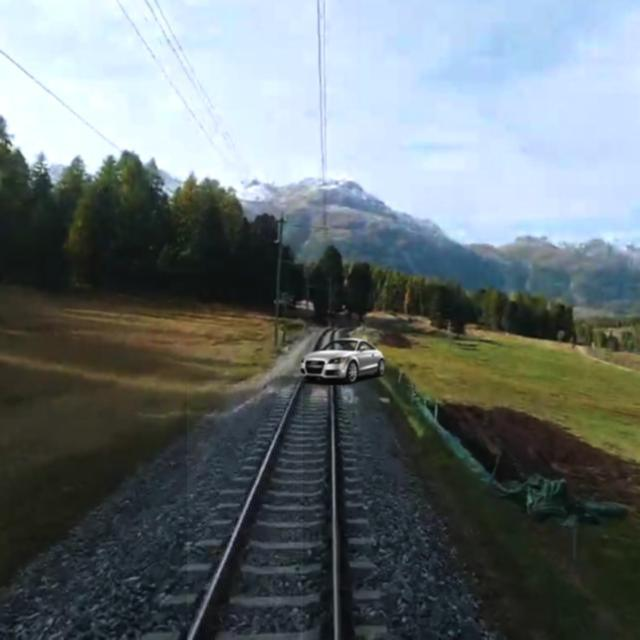rail: (188, 382, 304, 640), (330, 387, 344, 640)
